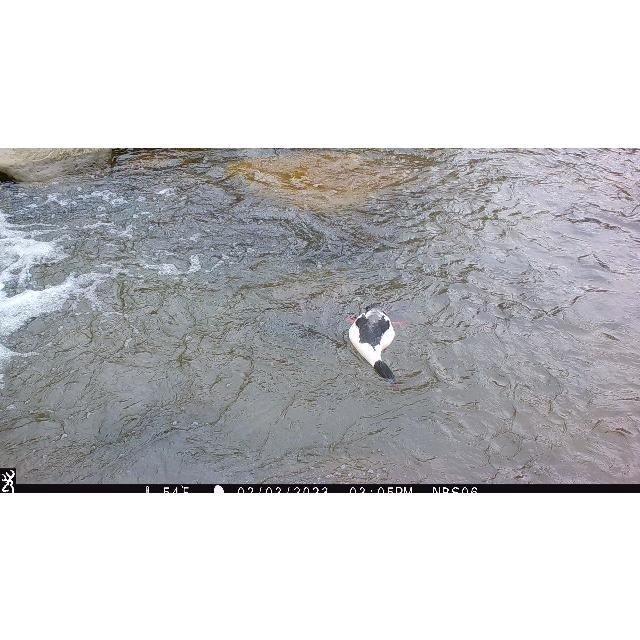animals: (342, 302, 408, 390)
